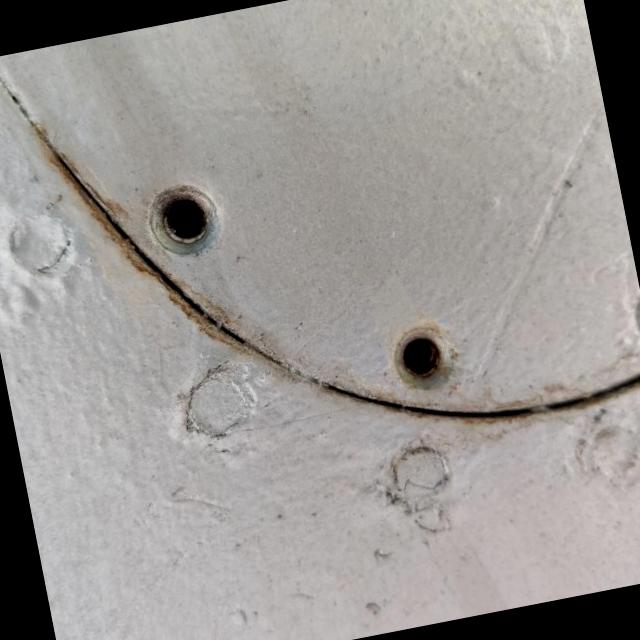Missing Fastener: (143, 179, 222, 260), (386, 314, 463, 394)
